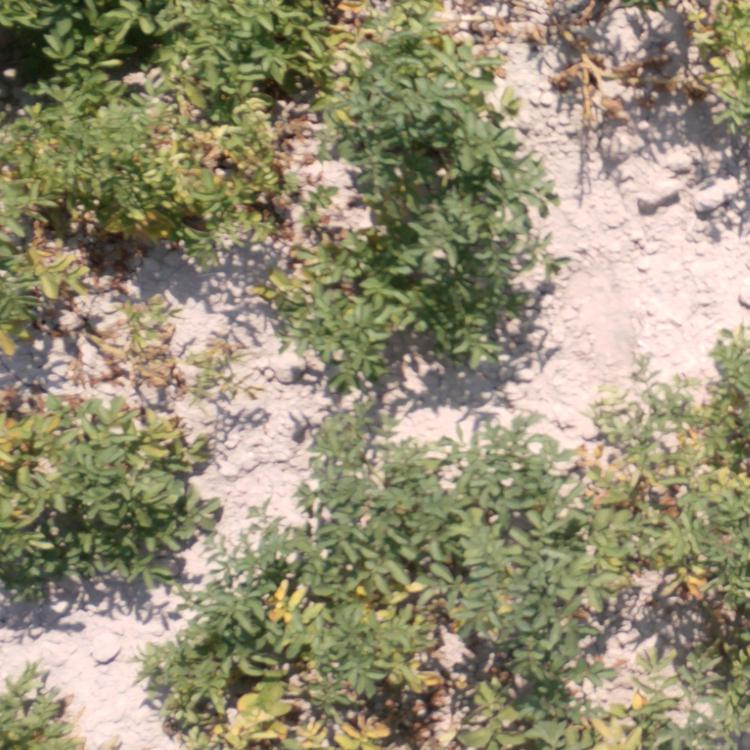healthy: (377, 179, 546, 365), (352, 36, 521, 181)
stressed: (310, 425, 572, 750), (8, 1, 336, 231), (1, 399, 205, 591), (574, 379, 709, 604), (214, 544, 324, 750), (716, 303, 750, 750), (261, 242, 365, 369), (128, 617, 207, 737), (683, 5, 750, 145), (1, 233, 76, 357), (1, 667, 91, 745), (580, 698, 714, 750)
